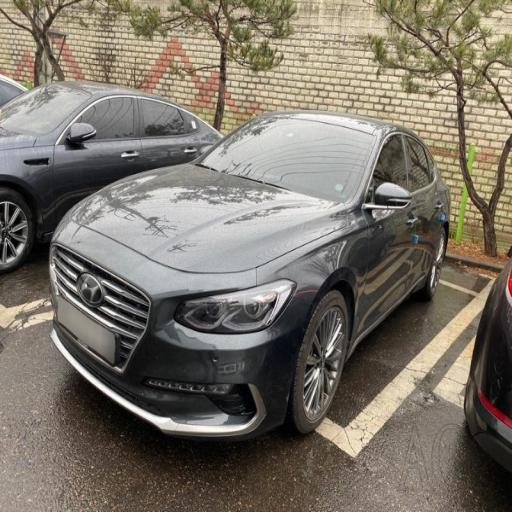scratch: (111, 174, 273, 288)
